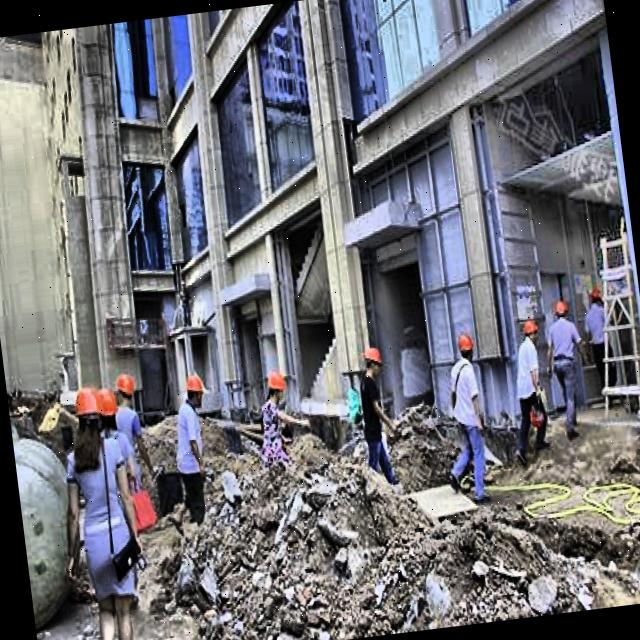helmet: (72, 385, 102, 432), (181, 372, 210, 411), (91, 385, 118, 426), (360, 342, 387, 377), (262, 368, 288, 403), (114, 371, 138, 404), (458, 331, 478, 362), (521, 315, 543, 340), (552, 298, 572, 321), (589, 282, 606, 307)
